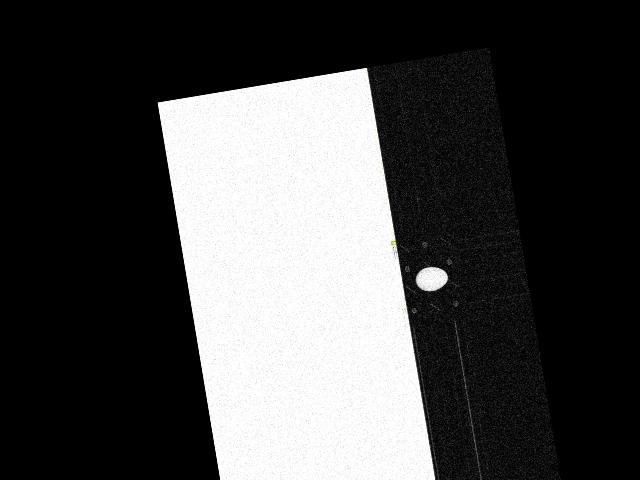egg: (413, 265, 449, 294)
